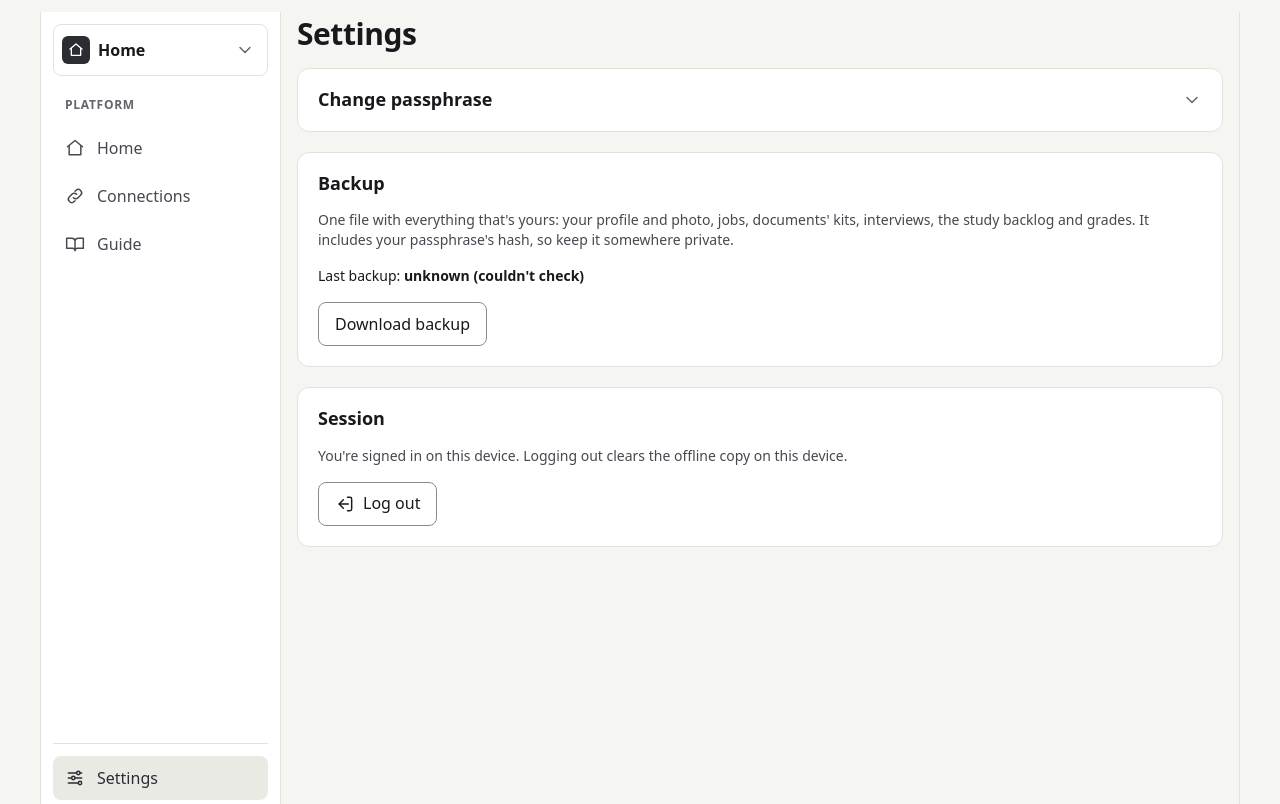
Scenario: Change passphrase › retries with the same key after no answer, so a change that went through replays
Click the button "Change passphrase" at (405, 99), box [318,89,1202,111]
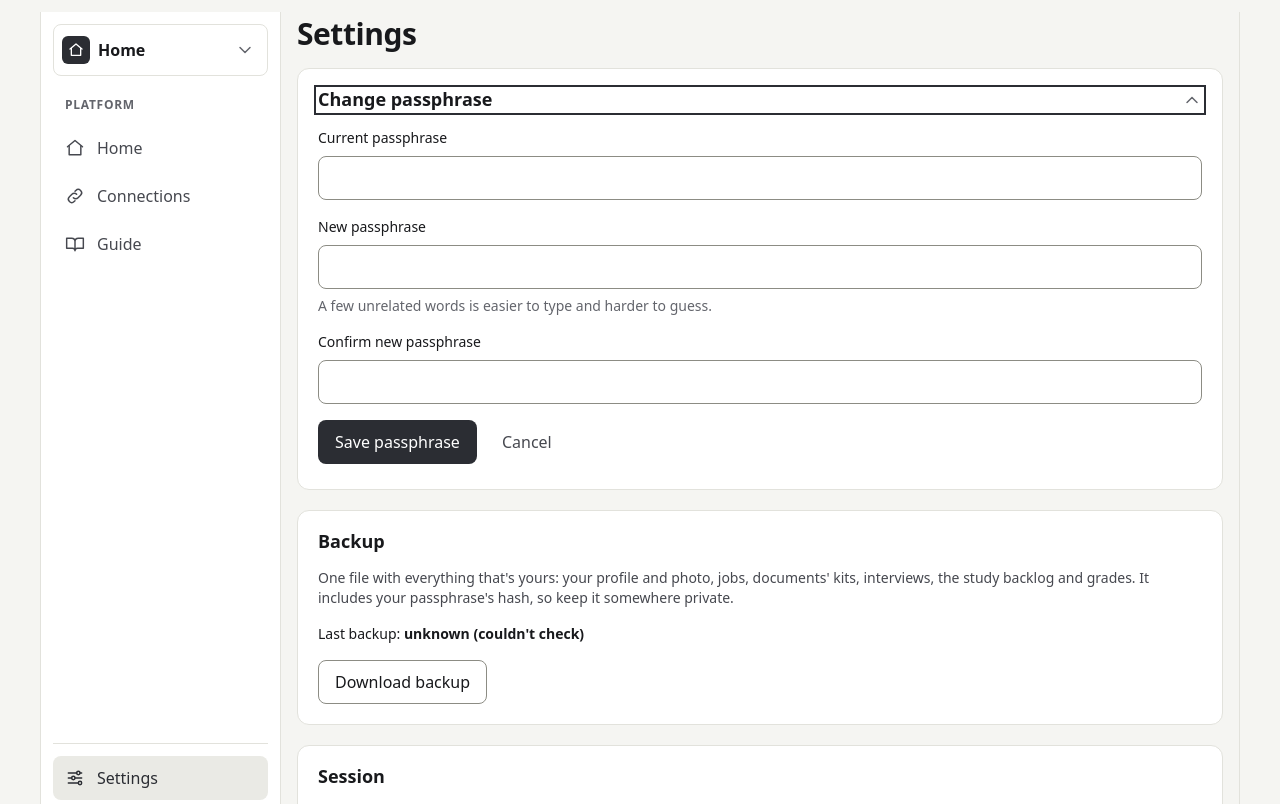
Type "the old passphrase" into the password field labelled "Current passphrase" at (764, 178), box [331,157,1197,199]
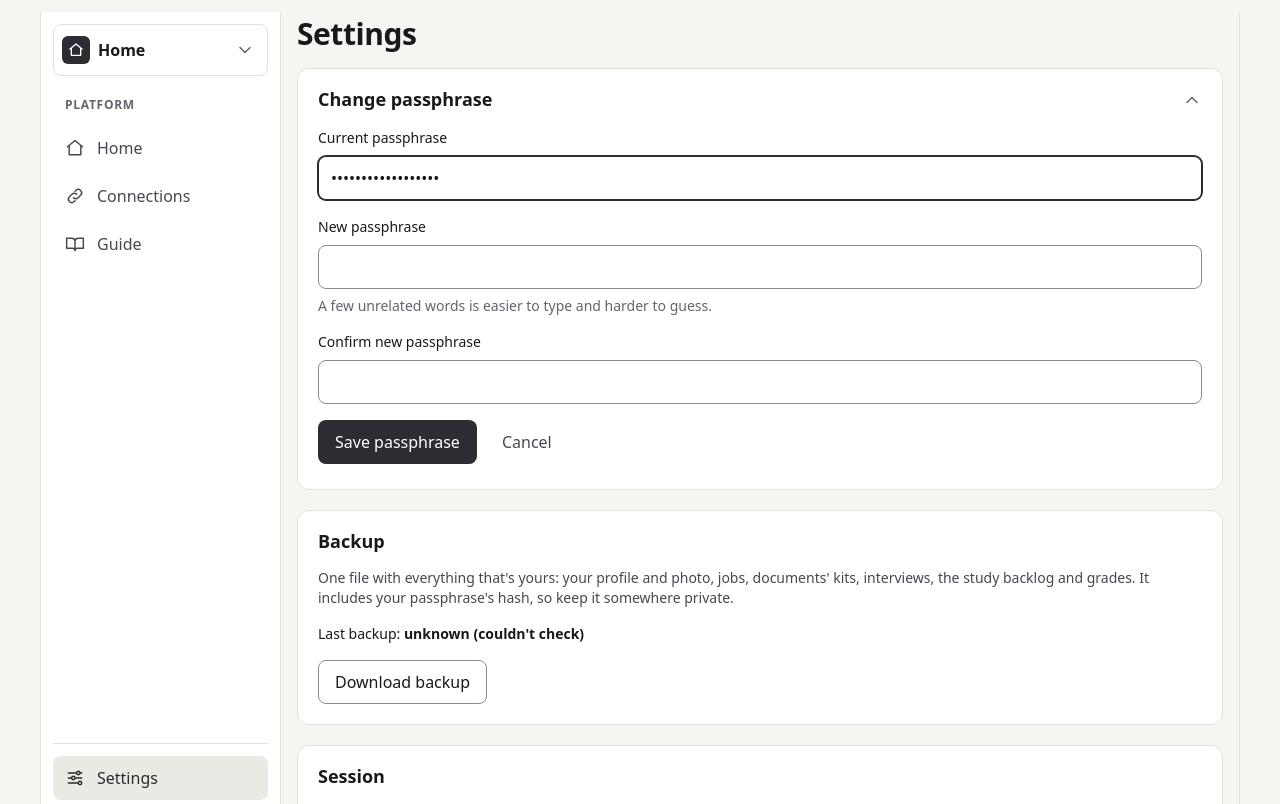
Type "lantern river copper" into the password field labelled "New passphrase" at (764, 267), box [331,246,1197,288]
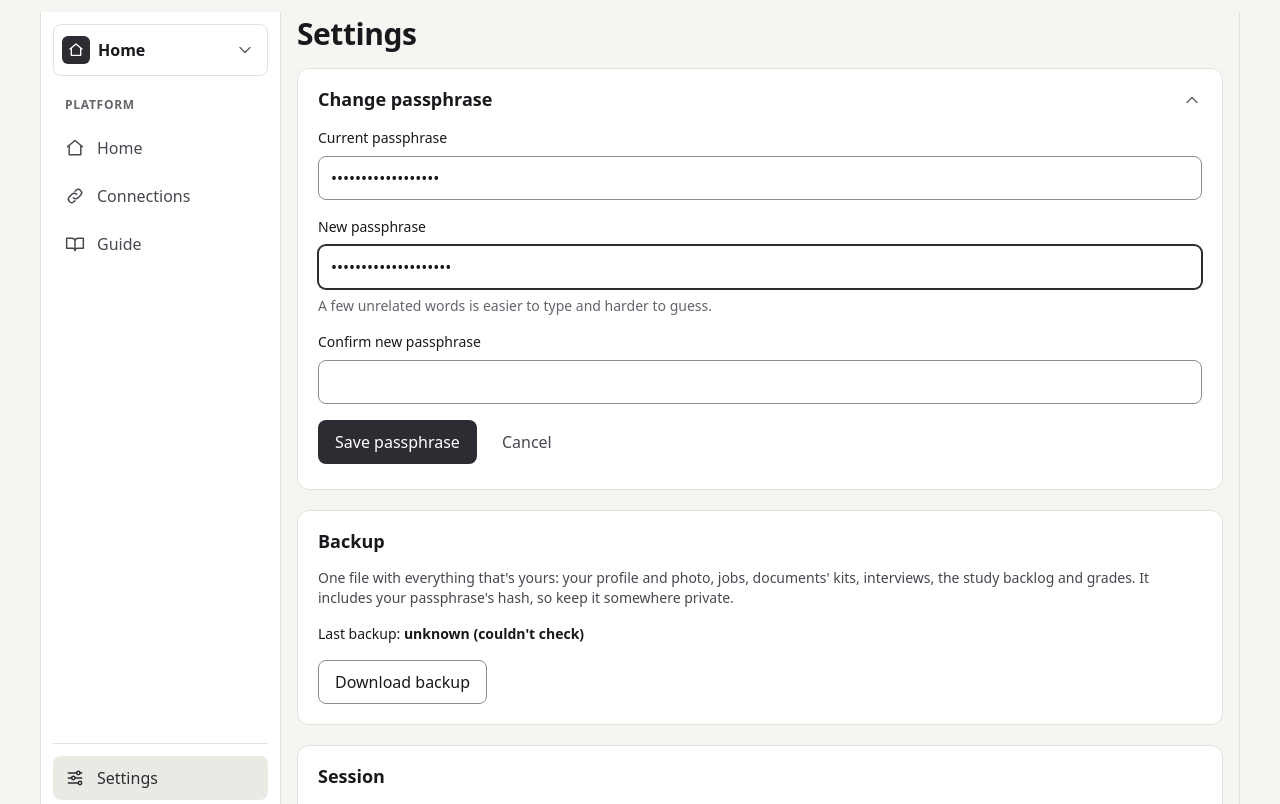
Type "lantern river copper" into the password field labelled "Confirm new passphrase" at (764, 382), box [331,362,1197,404]
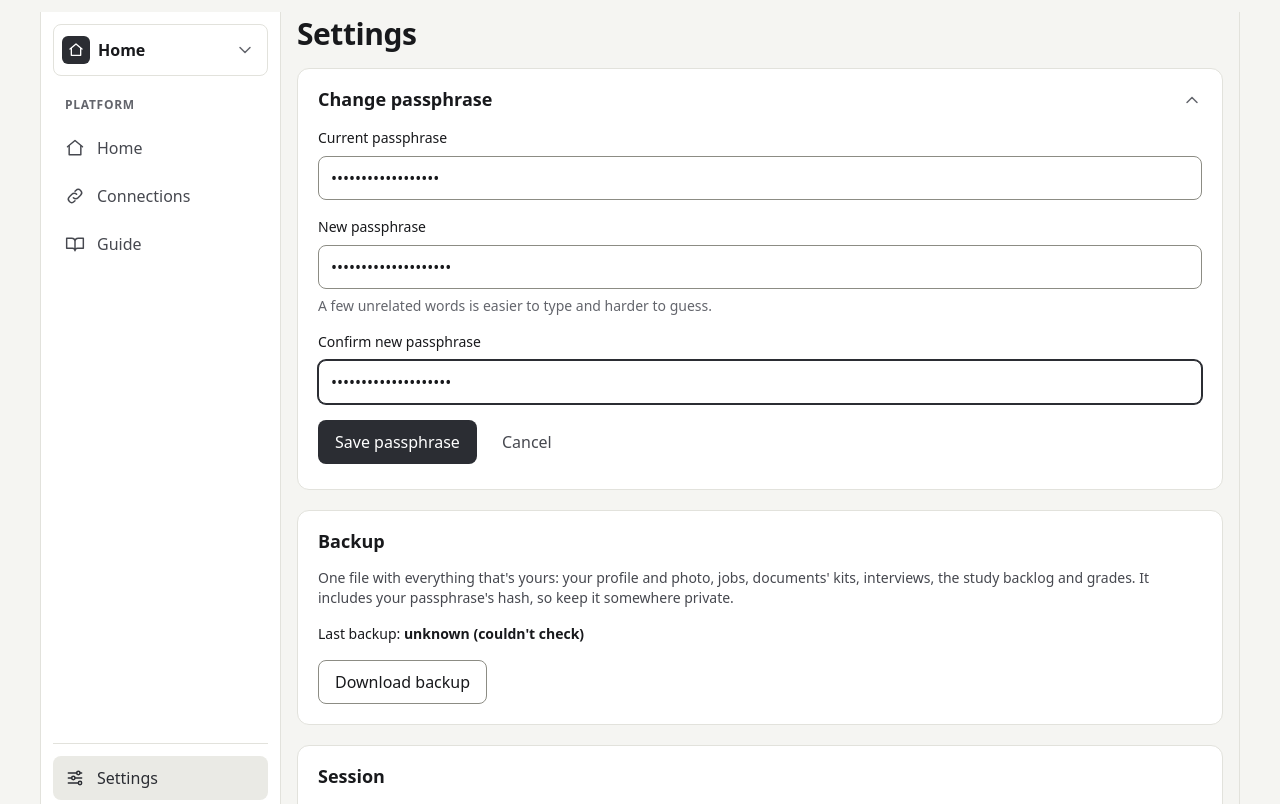
Click the button "Save passphrase" at (397, 442), box [318,420,477,464]
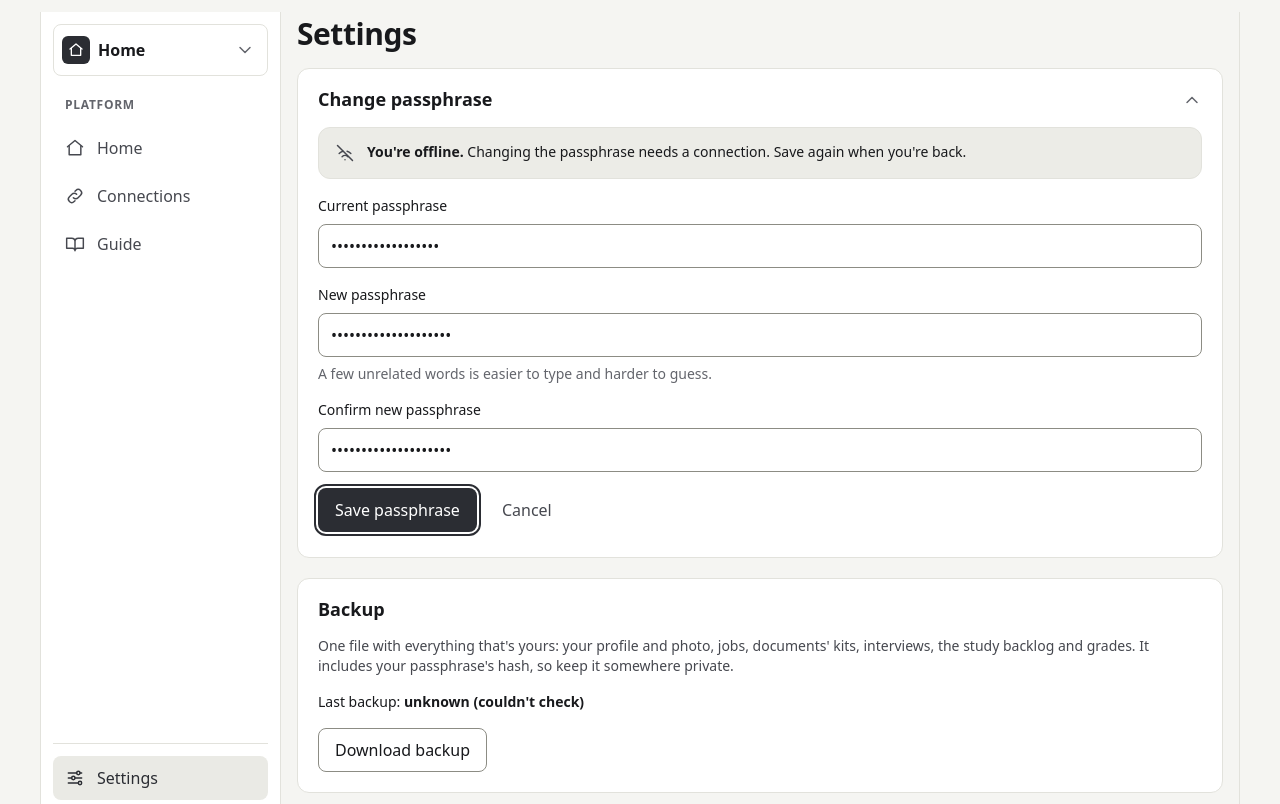
Result: the message shows "You're offline." at [367,142,464,161]
Click the button "Save passphrase" at (397, 510), box [318,488,477,532]
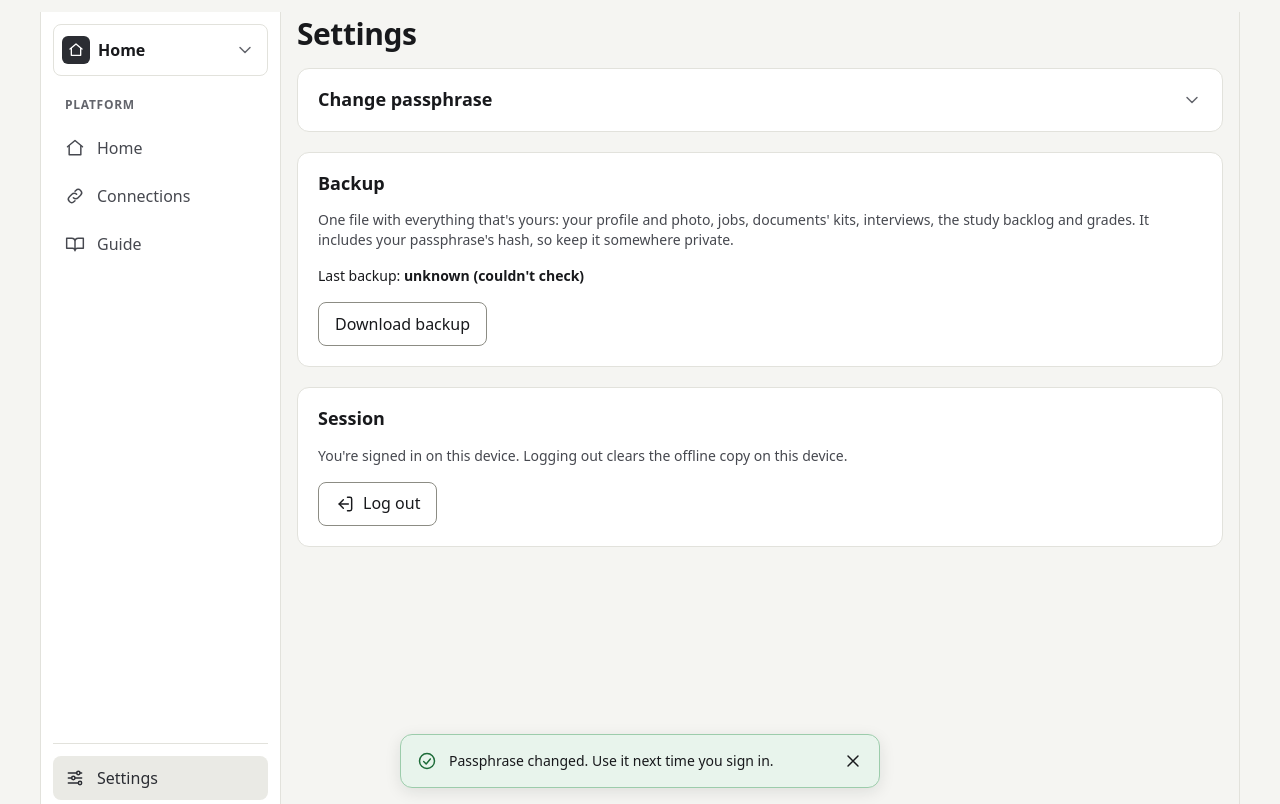
Result: the text "Passphrase changed. Use it next time you sign in." is shown at [449,748,823,774]
